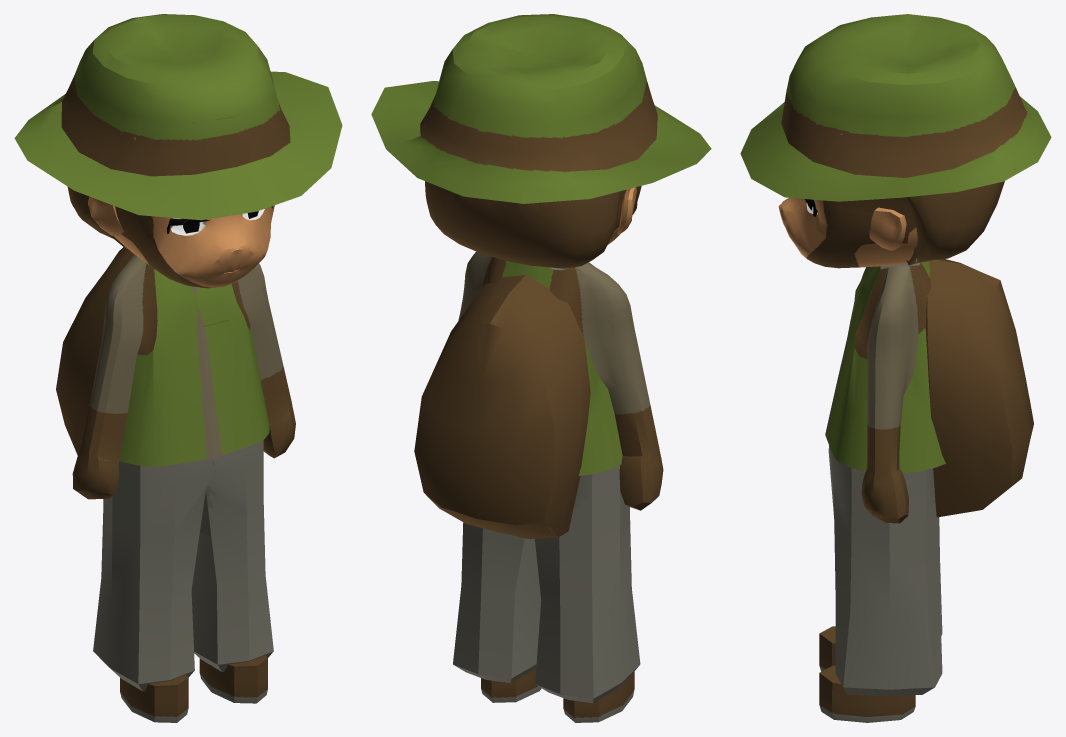
File: ryoushi.fbx
3 renders of one model, left to right at view 1: azimuth 30°, elevation 25°; view 2: azimuth 150°, elevation 25°; view 3: azimuth 270°, elevation 25°, orthographic. The views are drawn at different scales.
Parts seen in each view (by area): view 1: ryousi; view 2: ryousi; view 3: ryousi.
Boxes of the visible parts, <box> form: ryousi: <box>14,14,342,722</box>; ryousi: <box>371,14,711,722</box>; ryousi: <box>740,14,1051,722</box>.
Bounding box in the file's own units: 70.04 × 143 × 61.84.
